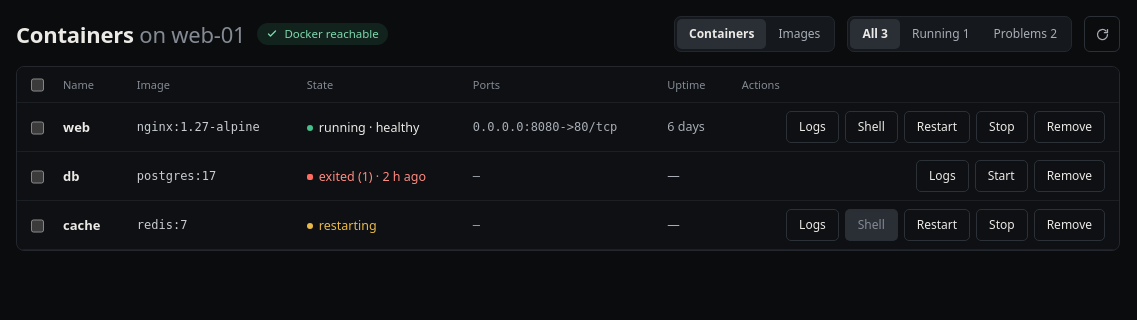
Test case: DockerWorkspace › starts a stopped container without a confirmation dialog
The width and height of the screenshot is (1137, 320).
Check: the text "Docker reachable" is shown, box [258, 23, 388, 45]
Click the button with aria-label "Start db" at (1001, 176), box [975, 160, 1028, 192]
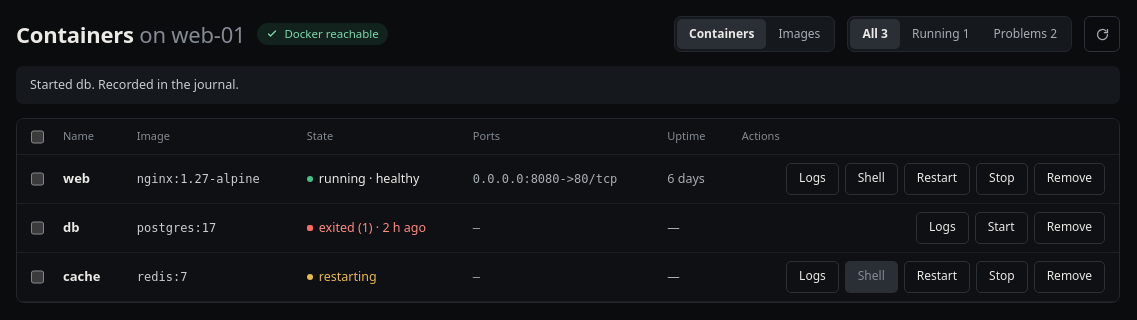
Check: the text "Started db. Recorded in the journal." is shown, box [16, 66, 1120, 104]
